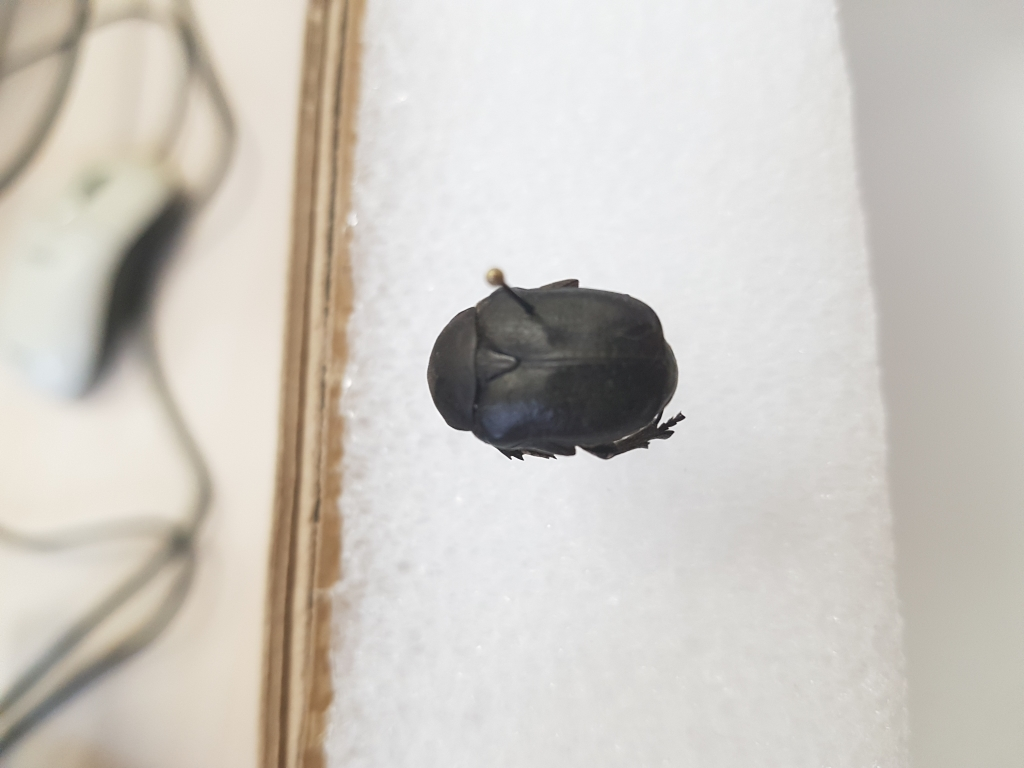Protaetia_vidua: (411, 251, 708, 473)
